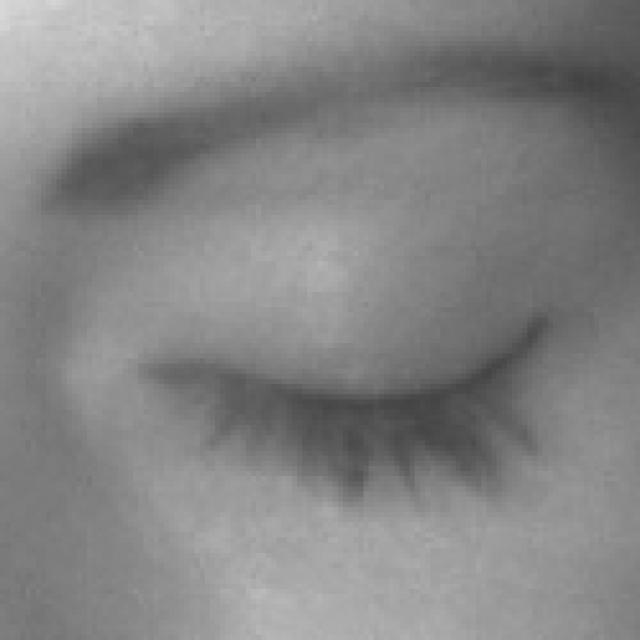Eyeclosed: (142, 200, 577, 578)
